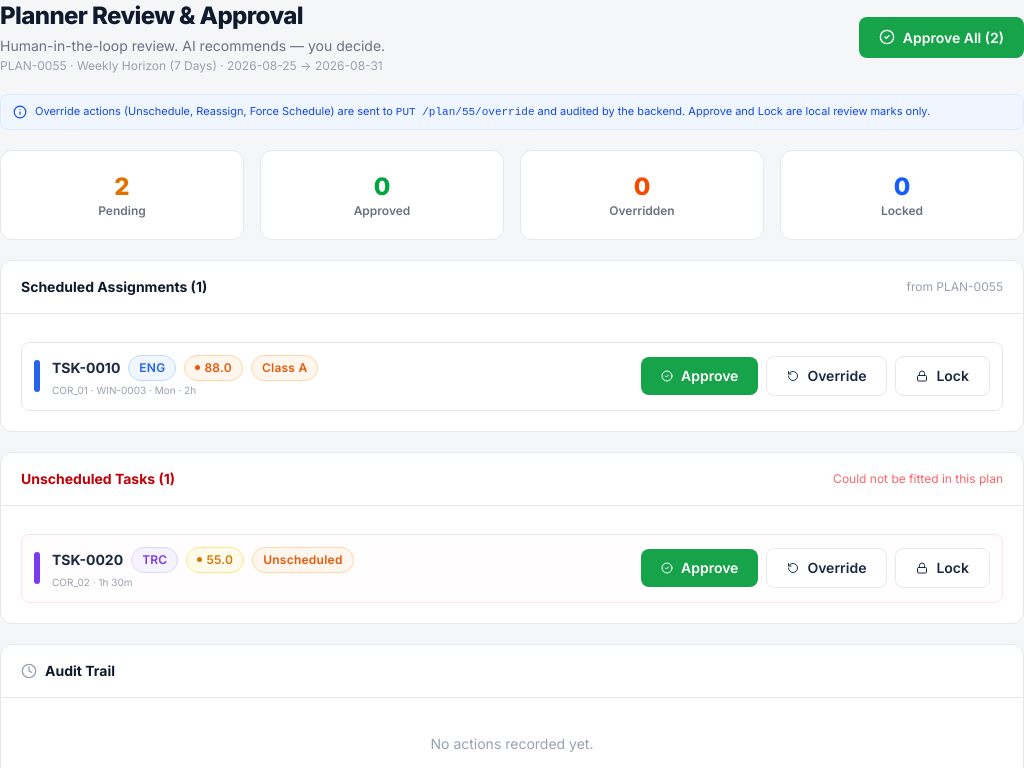
Test case: ReviewPage — Override modal action selection › reassign action: shows target window ID input field
Expected: the text "TSK-0010" is shown, [52, 358, 120, 378]
Click the button "Override" in the row of "Class A": (827,376) [766, 356, 887, 396]
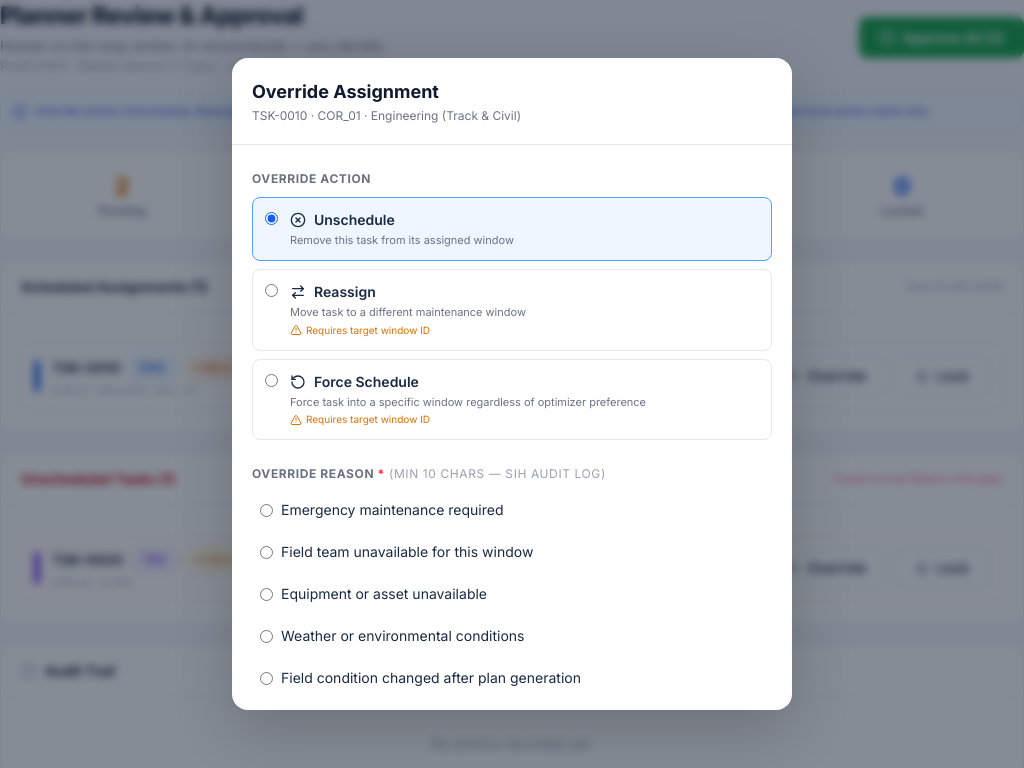
Result: the element with id "override-modal" is shown at [232, 58, 792, 710]
Click the radio button with id "action-reassign": (272,291) [265, 284, 278, 297]
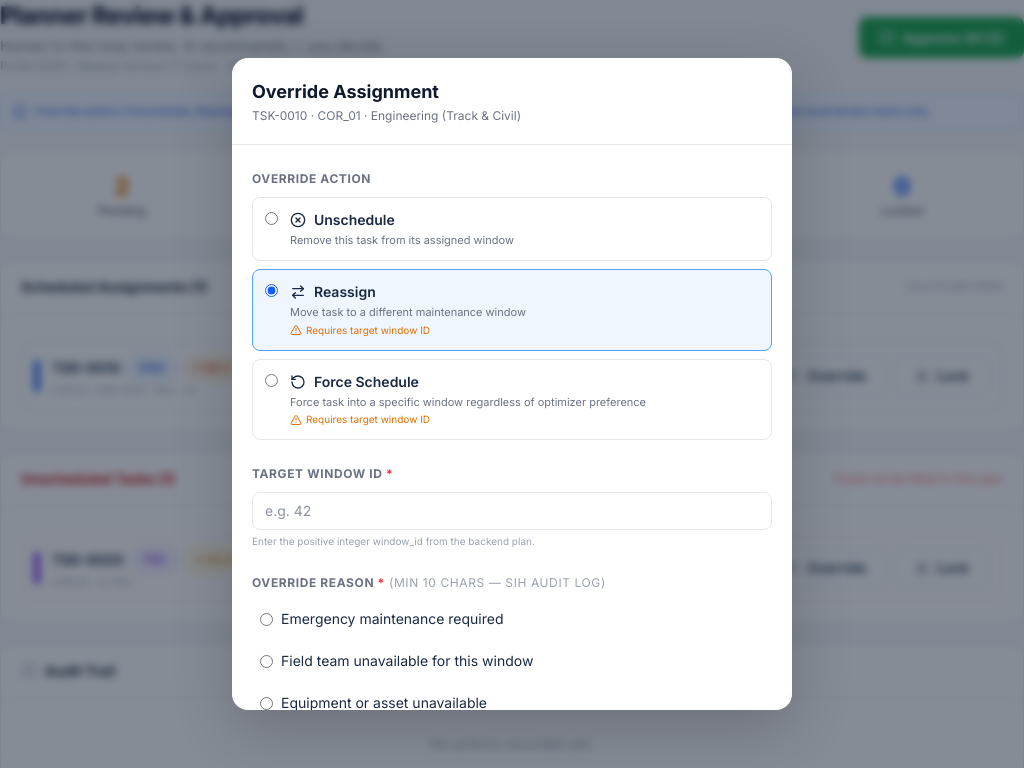
Result: the number field with id "target-window-id" is shown at [252, 492, 772, 530]
